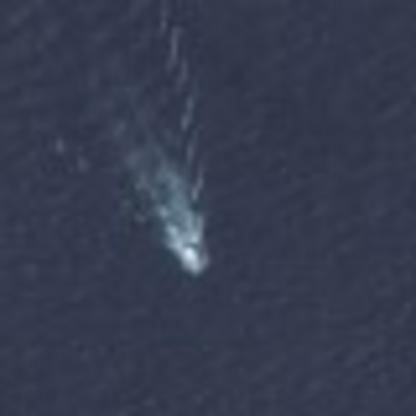ship: (170, 232, 218, 282)
